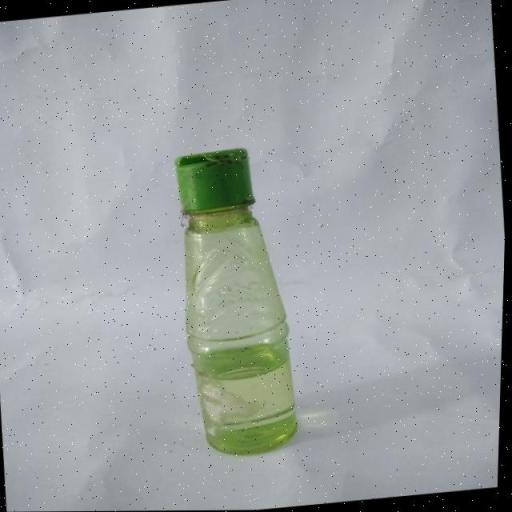plastic: (158, 136, 326, 464)
